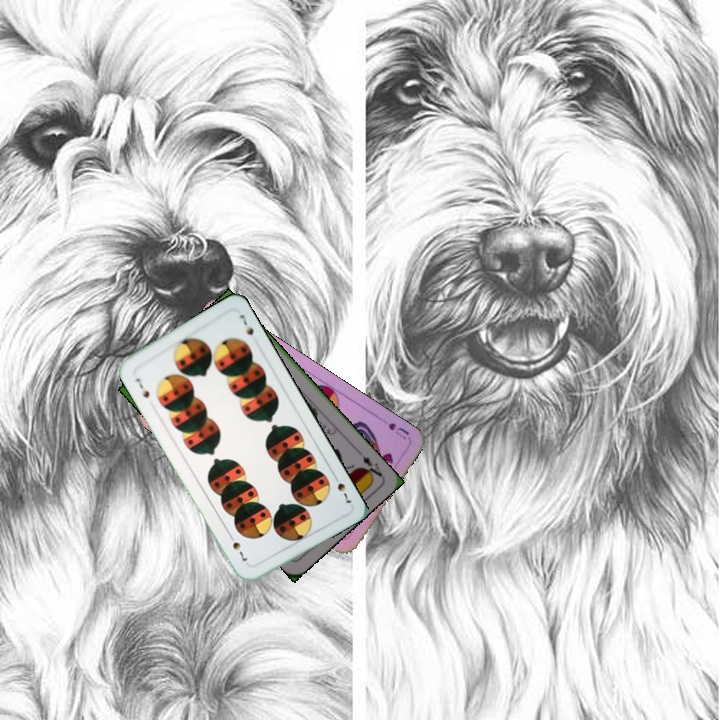EA: (353, 447, 385, 481)
S7: (329, 470, 356, 506), (132, 374, 152, 400)
SU: (375, 414, 412, 442)
